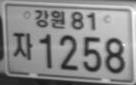1: (38, 32, 55, 70), (86, 11, 99, 31)
2: (59, 34, 79, 72)
5: (82, 35, 102, 73)
8: (105, 36, 126, 73), (70, 9, 85, 32)
강원_H: (34, 7, 66, 30)
자: (12, 32, 33, 60)
